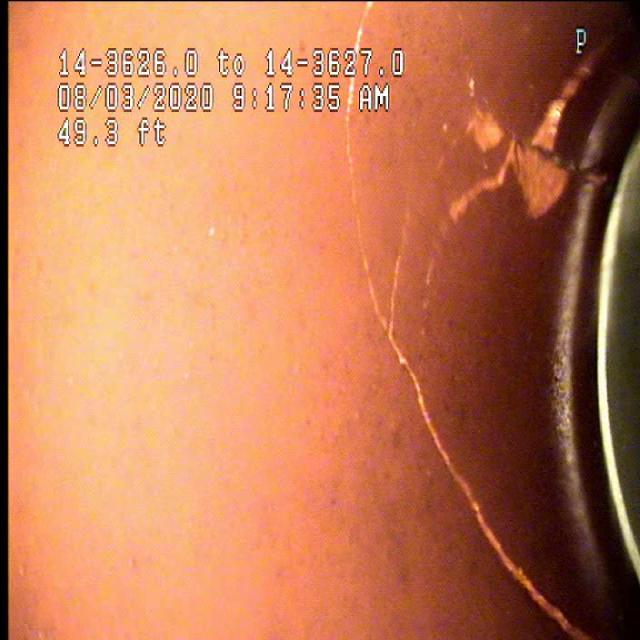Crack: (358, 250, 524, 602)
